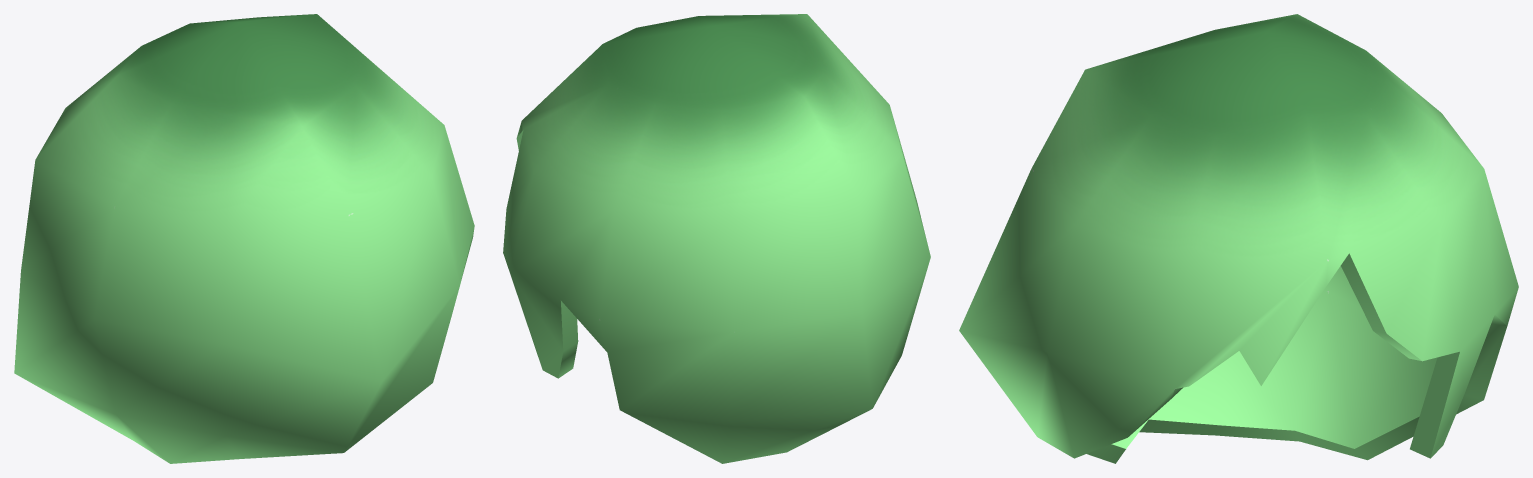
File: FHair_E1.fbx
3 renders of one model, left to right at view 1: azimuth 30°, elevation 25°; view 2: azimuth 150°, elevation 25°; view 3: azimuth 270°, elevation 25°, orthographic. The views are drawn at different scales.
Visible parts, largest first — view 1: hair.001; view 2: hair.001; view 3: hair.001.
Part boxes in pixels (left/top/right/bottom): hair.001: left=14, top=14, right=474, bottom=463; hair.001: left=503, top=14, right=930, bottom=463; hair.001: left=959, top=14, right=1518, bottom=463.
Bounding box in the file's own units: 3.7 × 3.69 × 4.07.
